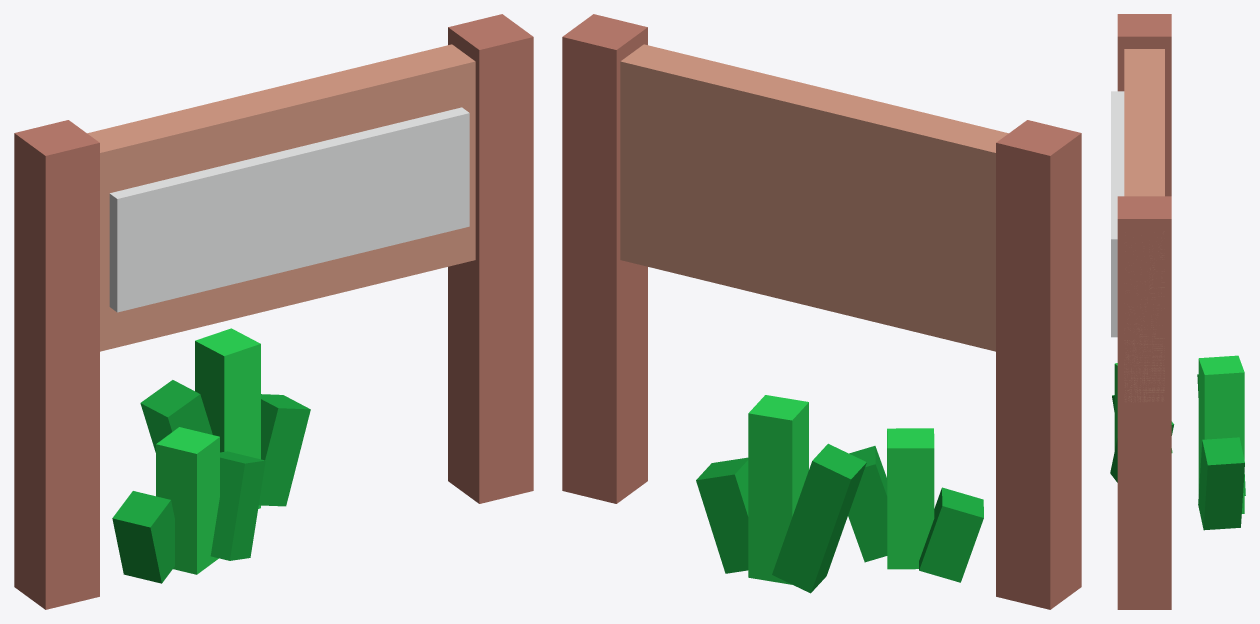
File: Signboard.fbx
3 views of the same model, side by side, from view 1: azimuth 30°, elevation 25°; view 2: azimuth 150°, elevation 25°; view 3: azimuth 270°, elevation 25° (orthographic). The views are drawn at different scales.
Parts seen in each view (by area): view 1: Wood.012, White.005, WoodLight.009, GrassDark.012, Grass.012; view 2: WoodLight.009, Wood.012, GrassDark.012, Grass.012; view 3: Wood.012, WoodLight.009, Grass.012, GrassDark.012, White.005.
Boxes of the visible parts, <box> form: Wood.012: <box>14,14,533,609</box>; White.005: <box>109,107,469,312</box>; WoodLight.009: <box>87,44,475,351</box>; GrassDark.012: <box>112,380,310,583</box>; Grass.012: <box>156,328,260,574</box>; WoodLight.009: <box>620,44,1008,351</box>; Wood.012: <box>562,14,1081,609</box>; GrassDark.012: <box>696,443,983,593</box>; Grass.012: <box>748,395,934,584</box>; Wood.012: <box>1117,14,1171,609</box>; WoodLight.009: <box>1124,49,1164,402</box>; Grass.012: <box>1114,355,1244,513</box>; GrassDark.012: <box>1110,374,1245,530</box>; White.005: <box>1111,91,1124,337</box>.
Bounding box in the file's own units: 3.6 × 3.23 × 1.01.
